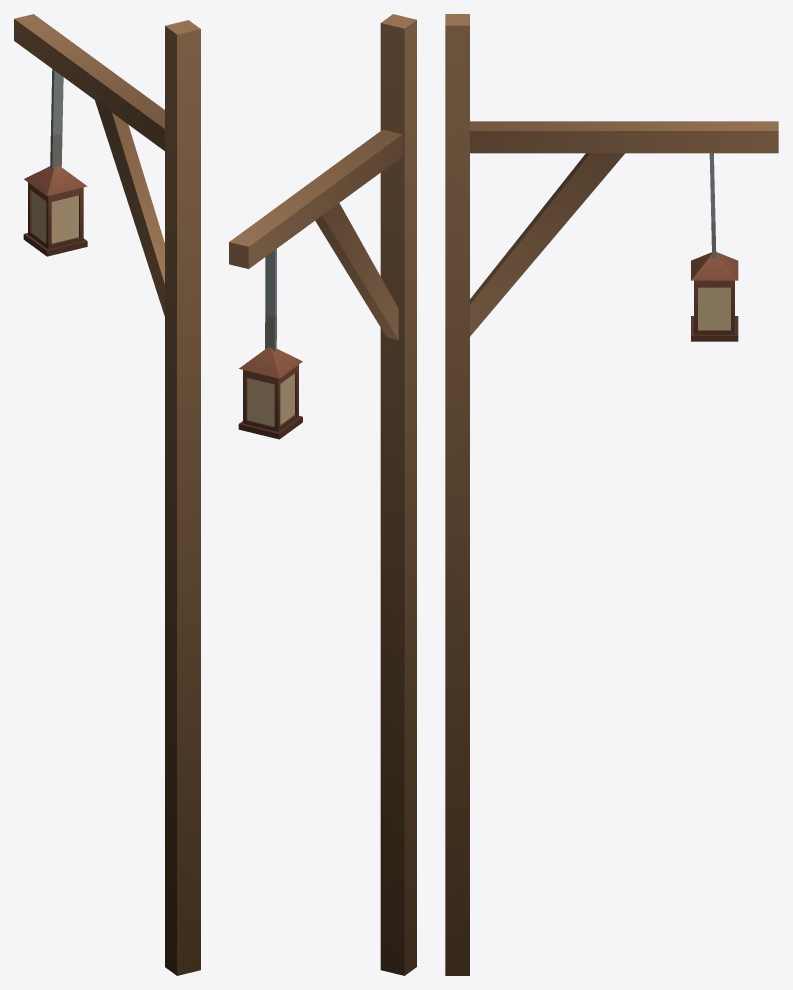
The model's file is ZLP_Build_D_17.FBX.
3 renders of one model, left to right at view 1: azimuth 30°, elevation 25°; view 2: azimuth 150°, elevation 25°; view 3: azimuth 270°, elevation 25°, orthographic.
Parts seen in each view (by area): view 1: ZLP_Build_D_17; view 2: ZLP_Build_D_17; view 3: ZLP_Build_D_17.
Boxes of the visible parts, bbox=[...] form: ZLP_Build_D_17: bbox=[14, 14, 200, 975]; ZLP_Build_D_17: bbox=[229, 14, 416, 975]; ZLP_Build_D_17: bbox=[445, 14, 778, 975].
Bounding box in the file's own units: 15.18 × 336 × 107.
